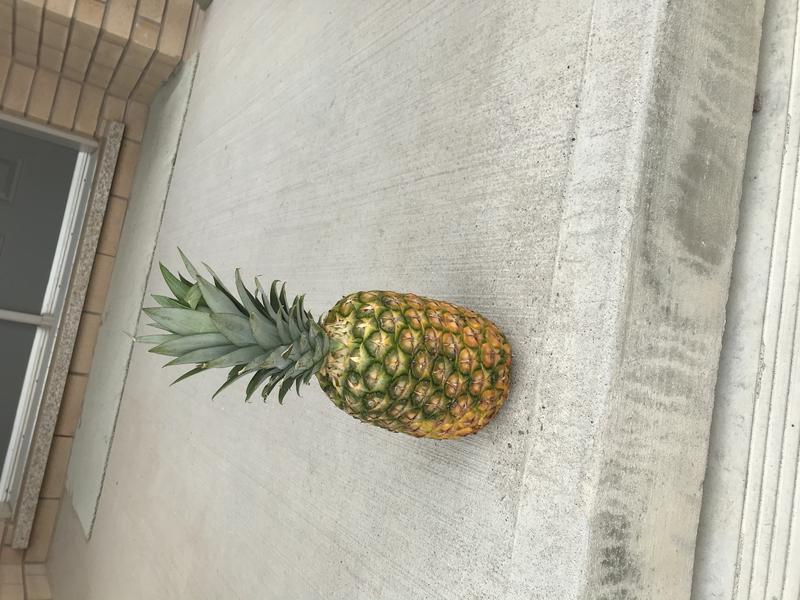pineapple: (135, 244, 531, 457)
